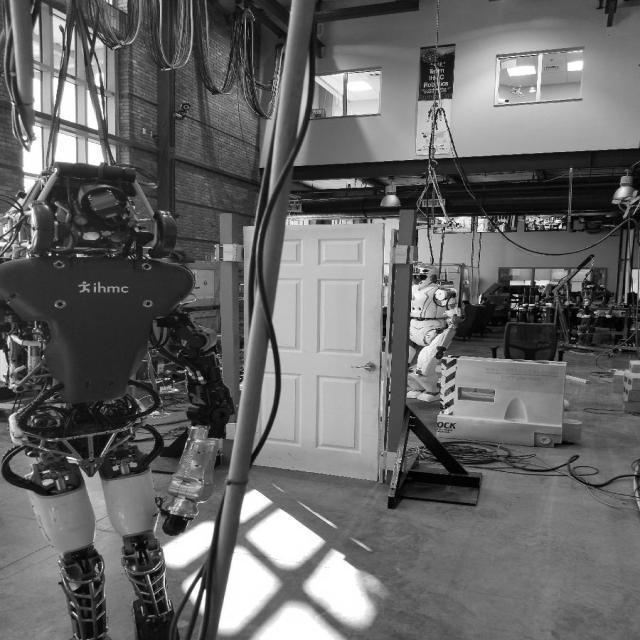door: (240, 220, 388, 487), (342, 360, 376, 373)
